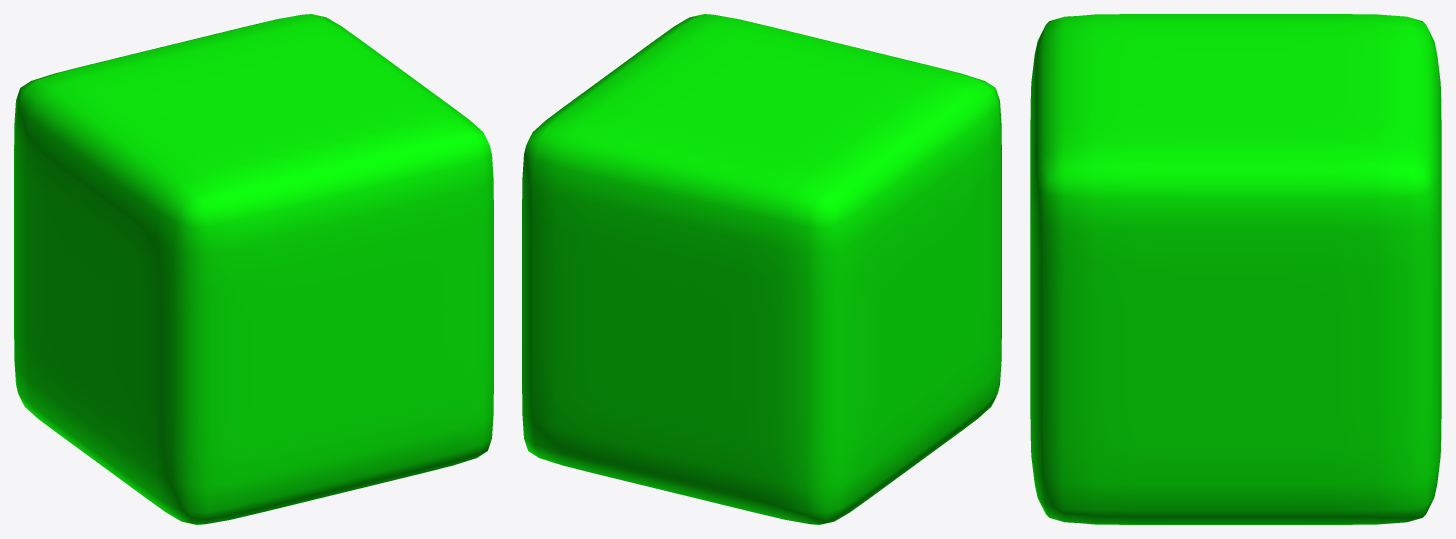
File: rounded-square.fbx
3 renders of one model, left to right at view 1: azimuth 30°, elevation 25°; view 2: azimuth 150°, elevation 25°; view 3: azimuth 270°, elevation 25°, orthographic. The views are drawn at different scales.
Visible parts, largest first — view 1: Cube; view 2: Cube; view 3: Cube.
Part boxes in pixels (left/top/right/bottom): Cube: left=14, top=14, right=493, bottom=524; Cube: left=522, top=14, right=1001, bottom=524; Cube: left=1030, top=14, right=1441, bottom=524.
Bounding box in the file's own units: 2 × 2 × 2.
